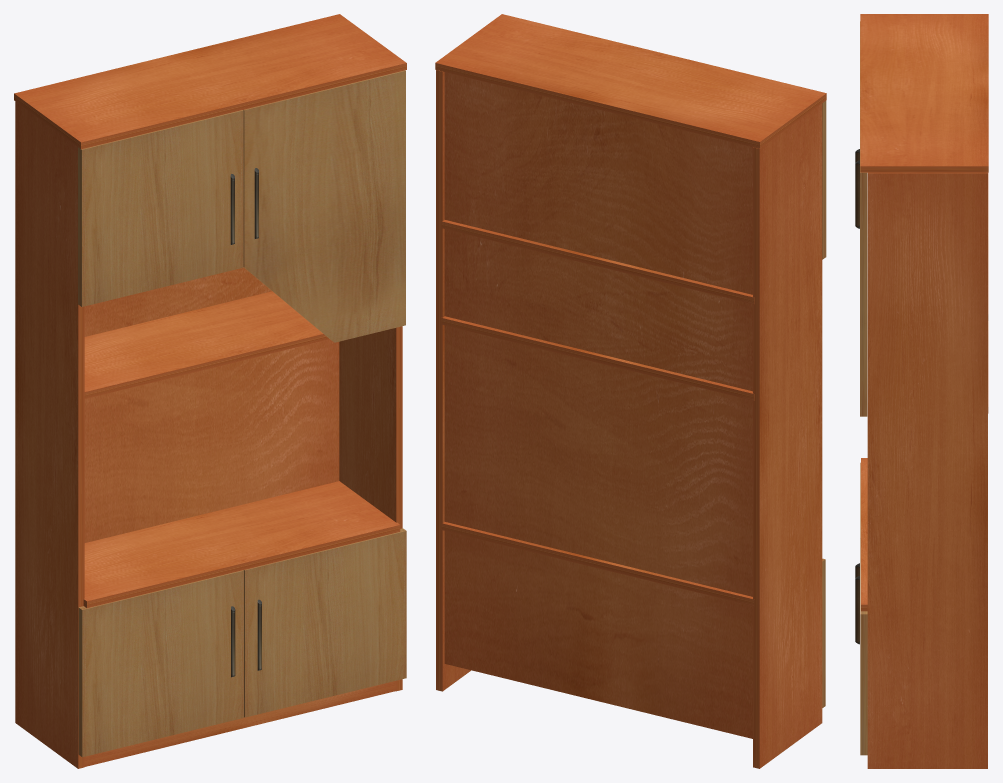
The model's file is sek3.FBX.
3 renders of one model, left to right at view 1: azimuth 30°, elevation 25°; view 2: azimuth 150°, elevation 25°; view 3: azimuth 270°, elevation 25°, orthographic. The views are drawn at different scales.
Visible parts, largest first — view 1: Box044; view 2: Box044; view 3: Box044.
Part boxes in pixels (<box>): Box044: <box>14,14,406,768</box>; Box044: <box>435,14,826,768</box>; Box044: <box>855,14,988,768</box>.
Bounding box in the file's own units: 51.13 × 94.41 × 18.95.
Materials: 3 (3 with a texture image).
